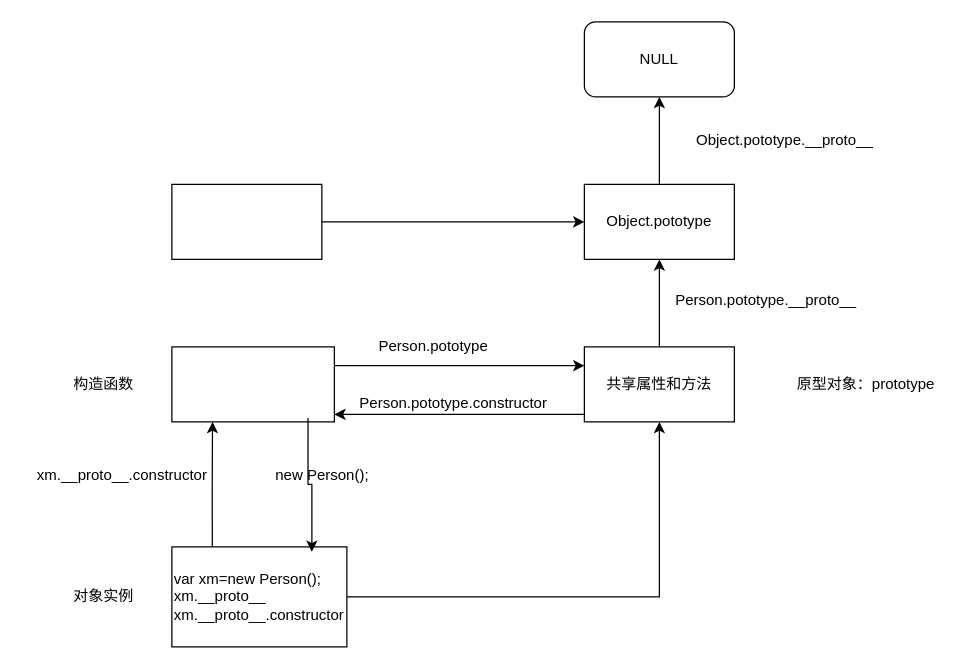
Image size: 968x669. Some labels were removed from this diagram. Each missing label, with the centre of its shape:
function Person(){ }: the point at 252,384
Object: the point at 246,221
